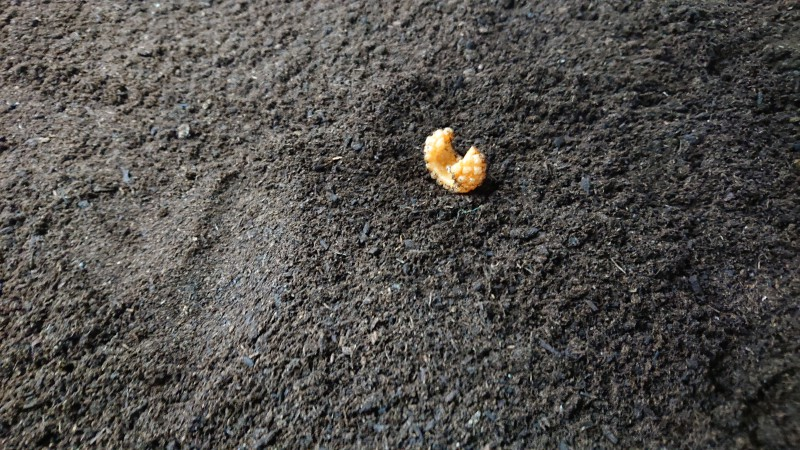eggs: (412, 120, 493, 192)
